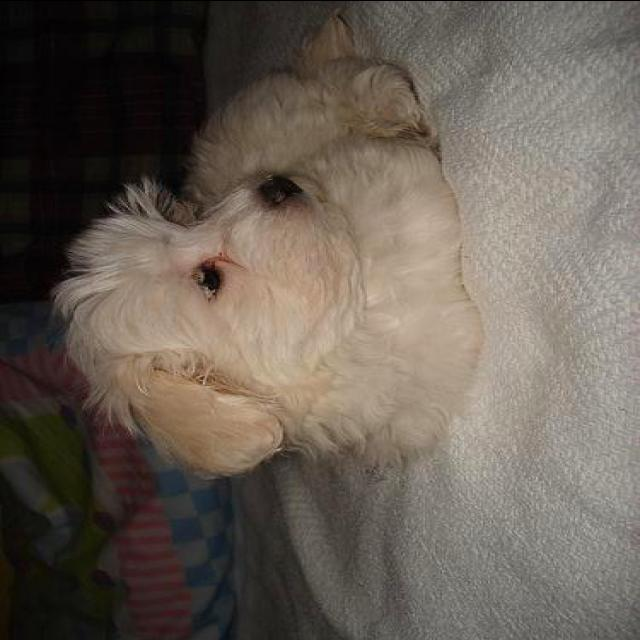maltese_dog: (49, 54, 483, 478)
